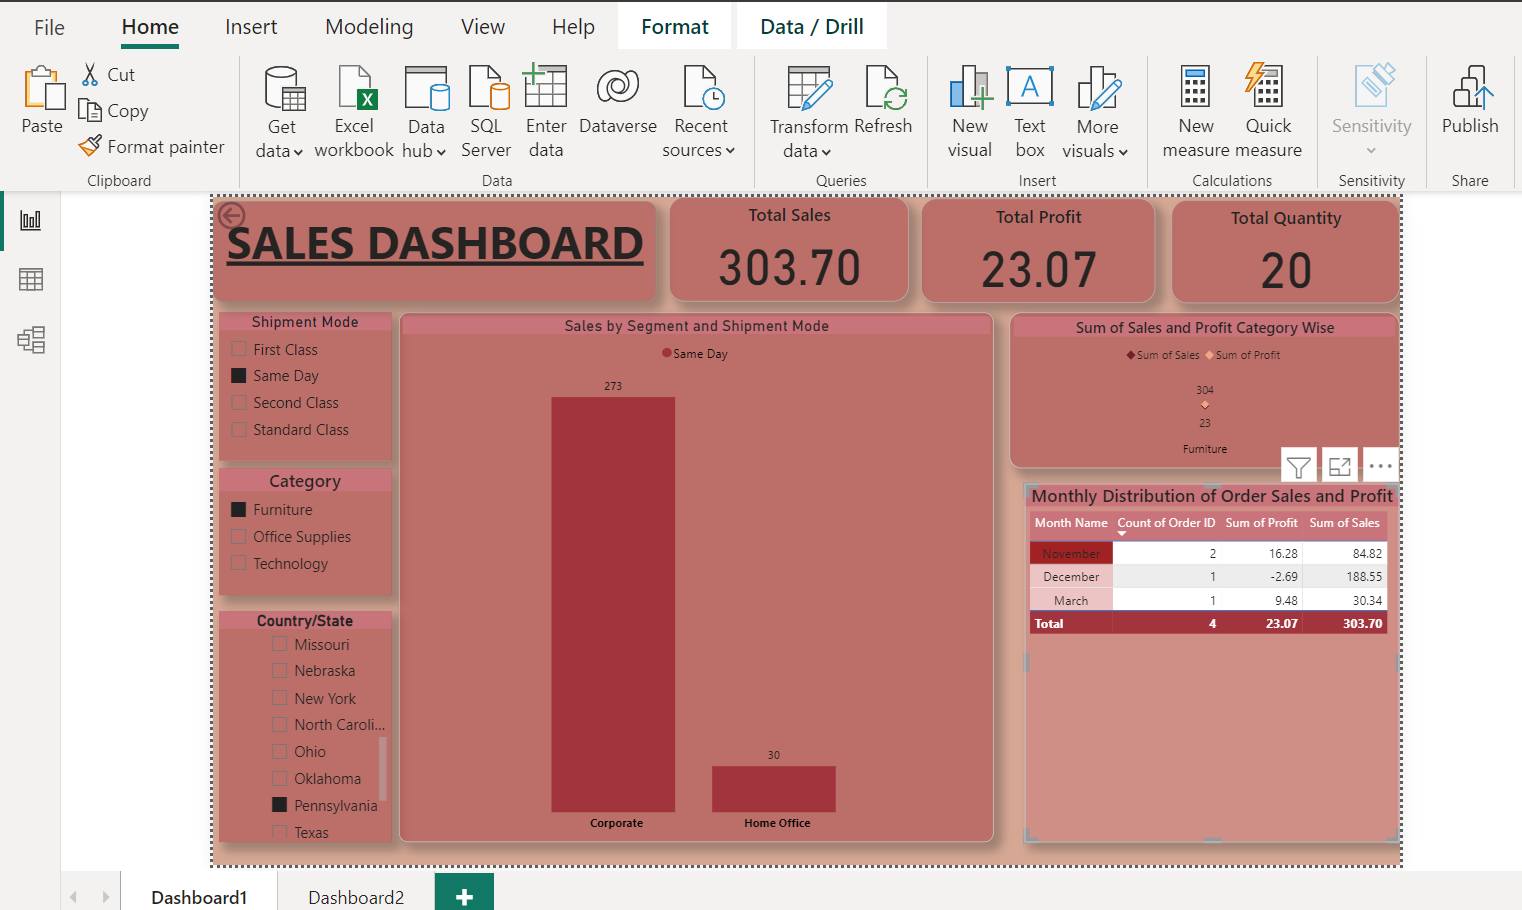

The dashboard page shown, as its layout file describes it:
{"tool":"powerbi","page":{"name":"Page 1","canvas":[1280,720],"ordinal":0},"visuals":[{"type":"slicer","title":"Shipment Mode","fields":{"Values":["Sales Data xls - Orders.Ship Mode"]},"box":[6.3,123.8,185.7,160.3],"z":0},{"type":"slicer","title":"Country/State","fields":{"Values":["Sales Data xls - Orders.Country/Region","Sales Data xls - Orders.State/Province"]},"box":[6.3,446,185.7,249.2],"z":1000},{"type":"slicer","title":"Category","fields":{"Values":["Sales Data xls - Orders.Category"]},"box":[6.3,292.1,185.7,136.5],"z":2000},{"type":"card","title":"Total Sales","fields":{"Values":["Sum(Sales Data xls - Orders.Sales)"]},"box":[492.1,0,258.7,112.7],"z":3000},{"type":"card","title":"Total Profit","fields":{"Values":["Sum(Sales Data xls - Orders.Profit)"]},"box":[763.5,1.6,252.4,112.7],"z":4000},{"type":"clusteredColumnChart","title":"Sales by Segment and Shipment Mode","fields":{"Category":["Sales Data xls - Orders.Segment"],"Y":["Sum(Sales Data xls - Orders.Sales)"],"Series":["Sales Data xls - Orders.Ship Mode"]},"box":[200,123.8,641.3,571.4],"z":5000},{"type":"actionButton","box":[0,0,100,40],"z":6000},{"type":"card","title":"Total Quantity","fields":{"Values":["Sum(Sales Data xls - Orders.Quantity)"]},"box":[1033.3,3.2,246,111.1],"z":8000},{"type":"tableEx","title":"Monthly Distribution of Order Sales and Profit","fields":{"Values":["Sales Data xls - Orders.Month Name","CountNonNull(Sales Data xls - Orders.Order ID)","Sum(Sales Data xls - Orders.Profit)","Sum(Sales Data xls - Orders.Sales)"]},"box":[874.6,309.5,404.8,385.7],"z":9000},{"type":"textbox","box":[0,4.8,477.8,107.9],"z":9001},{"type":"lineChart","title":"Sum of Sales and Profit Category Wise","fields":{"Y":["Sum(Sales Data xls - Orders.Sales)"],"Y2":["Sum(Sales Data xls - Orders.Profit)"],"Category":["Sales Data xls - Orders.Category"]},"box":[858.7,123.8,420.6,168.3],"z":9002}]}

Visuals, with their boxes on the page's 1280x720 design canvas (x1, y1, x2, y2). These are canvas units, not pixel positions in the 1522x910 screenshot, which may show the page scaled, cropped or inside an application window:
"Shipment Mode" slicer: x1=6 y1=124 x2=192 y2=284
"Country/State" slicer: x1=6 y1=446 x2=192 y2=695
"Category" slicer: x1=6 y1=292 x2=192 y2=429
"Total Sales" card: x1=492 y1=0 x2=751 y2=113
"Total Profit" card: x1=764 y1=2 x2=1016 y2=114
"Sales by Segment and Shipment Mode" clusteredColumnChart: x1=200 y1=124 x2=841 y2=695
actionButton: x1=0 y1=0 x2=100 y2=40
"Total Quantity" card: x1=1033 y1=3 x2=1279 y2=114
"Monthly Distribution of Order Sales and Profit" tableEx: x1=875 y1=310 x2=1279 y2=695
textbox: x1=0 y1=5 x2=478 y2=113
"Sum of Sales and Profit Category Wise" lineChart: x1=859 y1=124 x2=1279 y2=292
